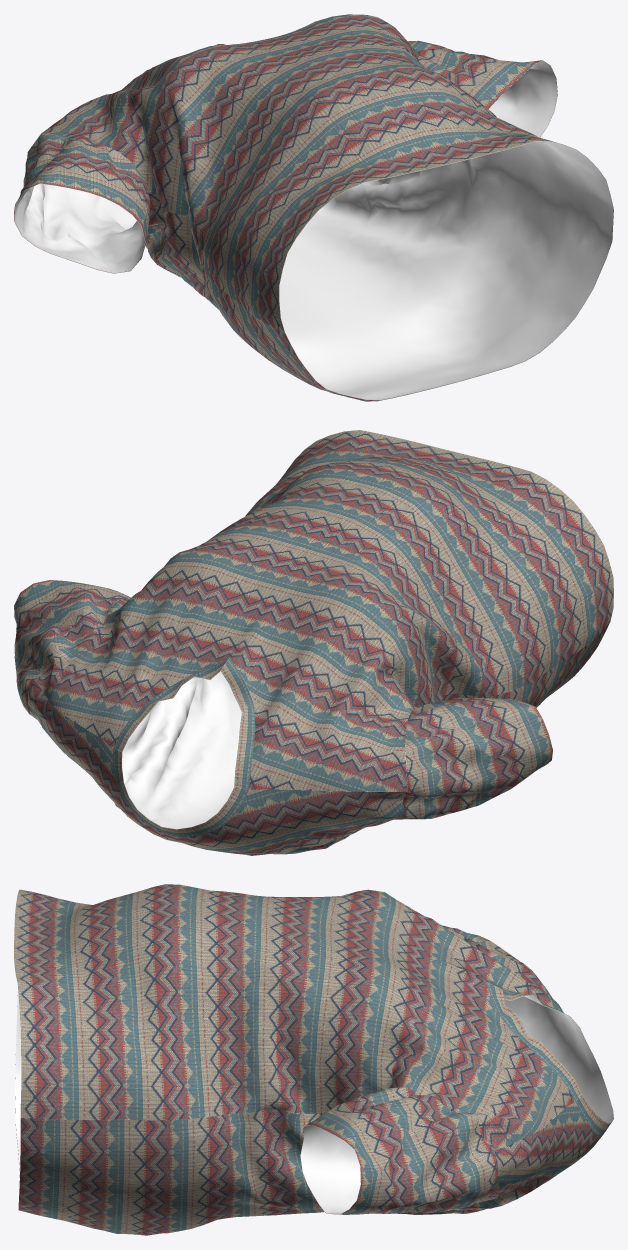
Rendered from female_obs_Gaq0qW3.glb.
3 renders of one model, top to bottom at view 1: azimuth 30°, elevation 25°; view 2: azimuth 150°, elevation 25°; view 3: azimuth 270°, elevation 25°, orthographic. The views are drawn at different scales.
Visible parts, largest first — view 1: female_obs; view 2: female_obs; view 3: female_obs.
Part boxes in pixels (box(x1,y1,x2,y2)): female_obs: box(14, 14, 613, 401); female_obs: box(14, 430, 613, 855); female_obs: box(14, 884, 613, 1235).
Bounding box in the file's own units: 0.7367 × 0.3701 × 0.6711.
2 materials, 1 textured.
